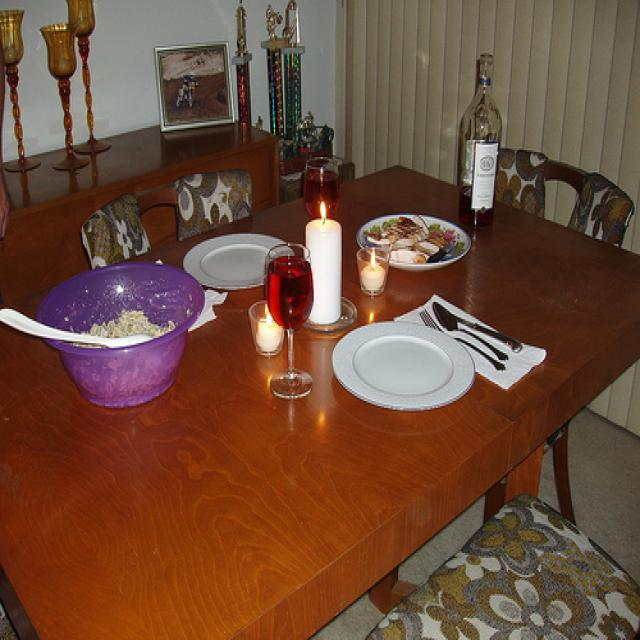bottle: (459, 52, 504, 237)
chair: (491, 146, 640, 525), (365, 491, 640, 639), (79, 167, 255, 273)
diningtable: (1, 160, 640, 639)
